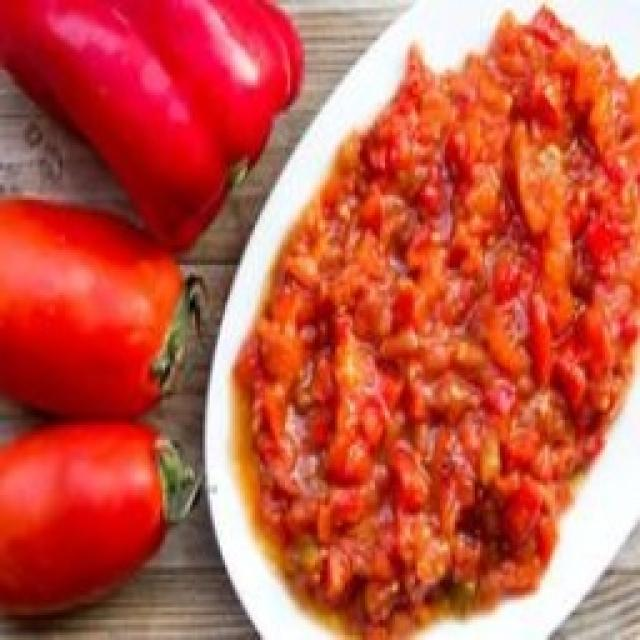Harissa: (202, 10, 640, 640)
